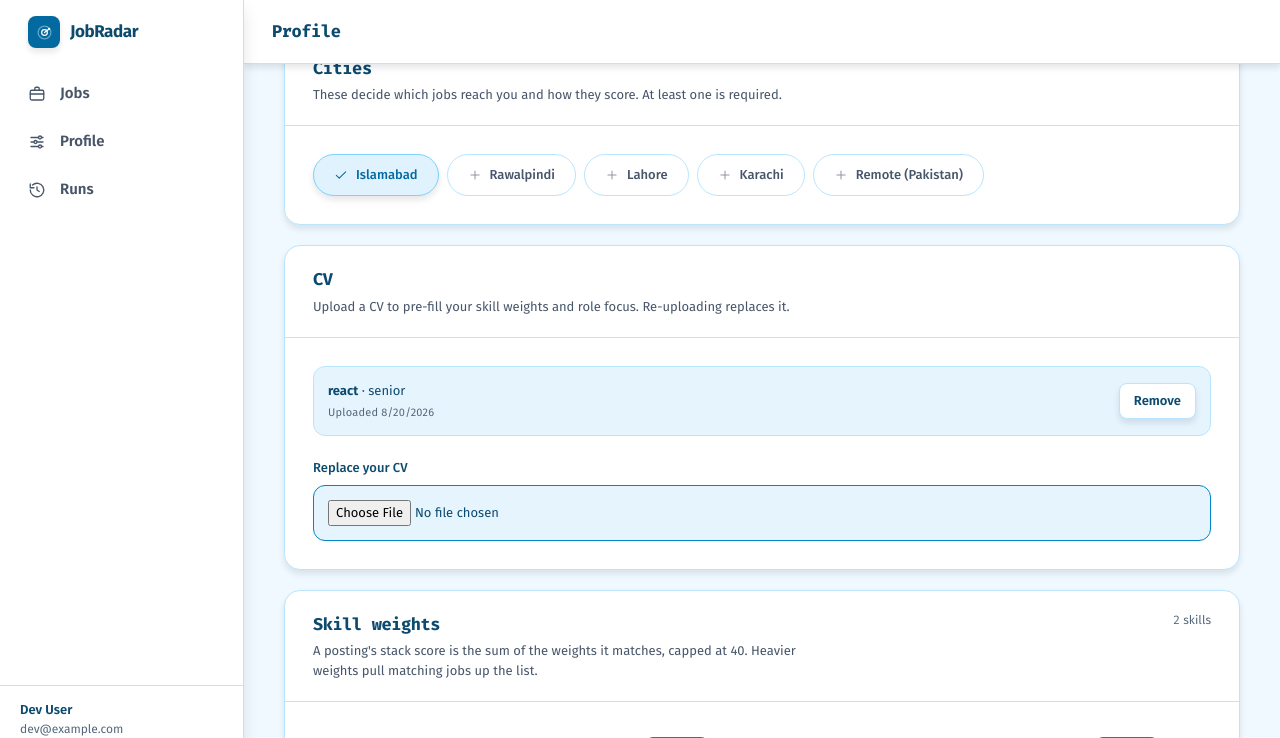
Scenario: résumé section › removing an uploaded résumé clears it
This screenshot has width=1280, height=738.
(page scrolled)
Click the button "Remove" at (1157, 401), box top-left (1119, 383), bottom-right (1196, 419)
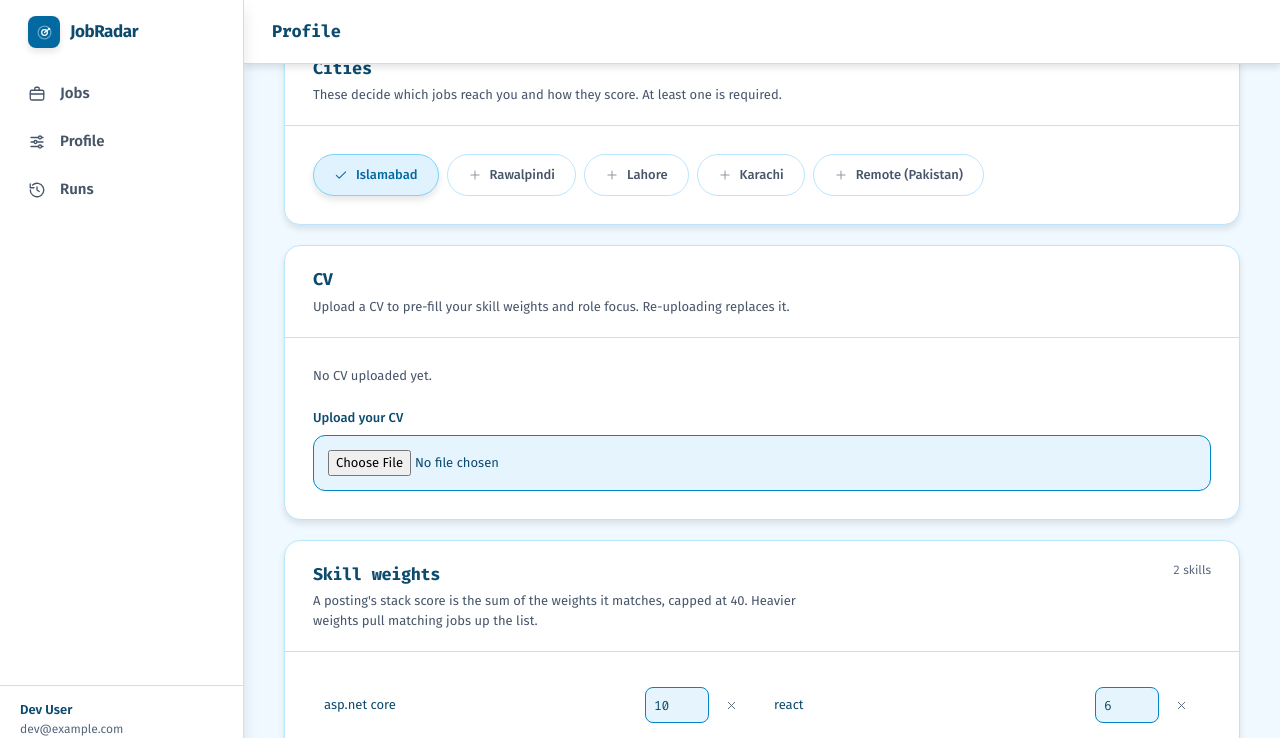
Expected: the text "No CV uploaded yet." is shown, top-left (313, 368), bottom-right (432, 383)
